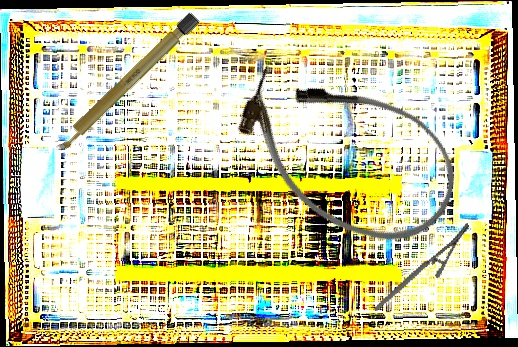Cannula: (212, 36, 481, 271)
Needle Holder: (357, 222, 486, 312)
Scalpel Handle: (51, 11, 201, 156)
